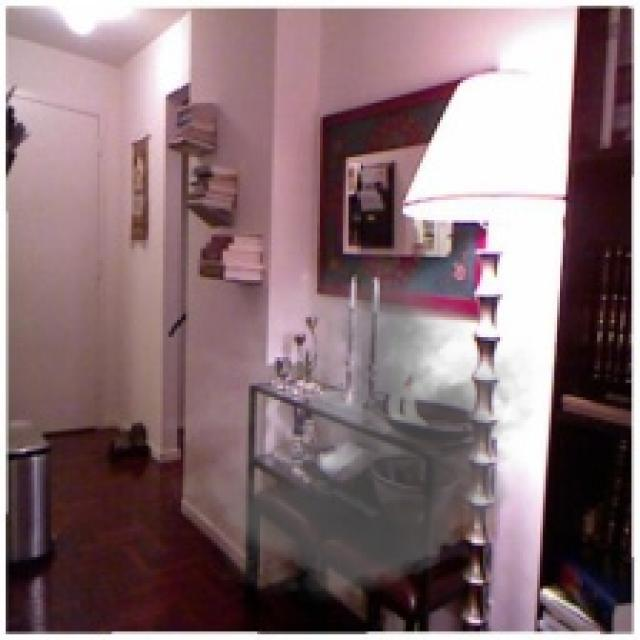smoke: (163, 255, 557, 614)
